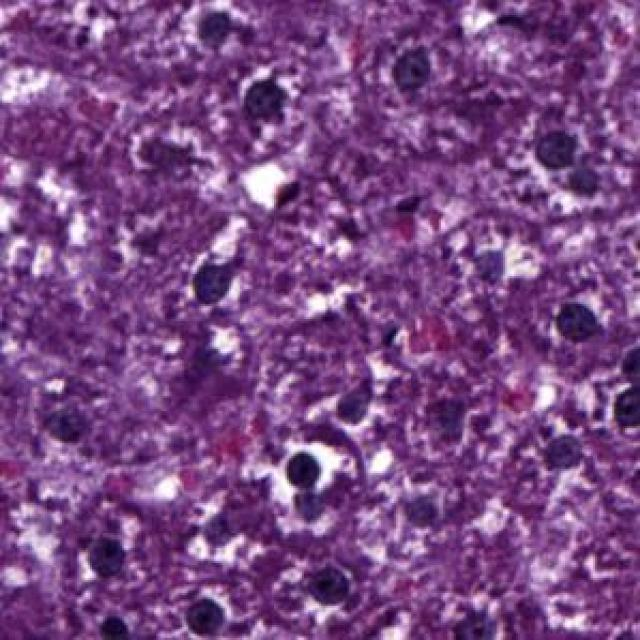inflammation: (180, 252, 246, 310), (235, 68, 287, 130), (542, 302, 606, 347), (304, 563, 360, 612), (175, 591, 227, 640), (282, 443, 326, 495), (396, 43, 443, 90), (165, 409, 205, 454)
